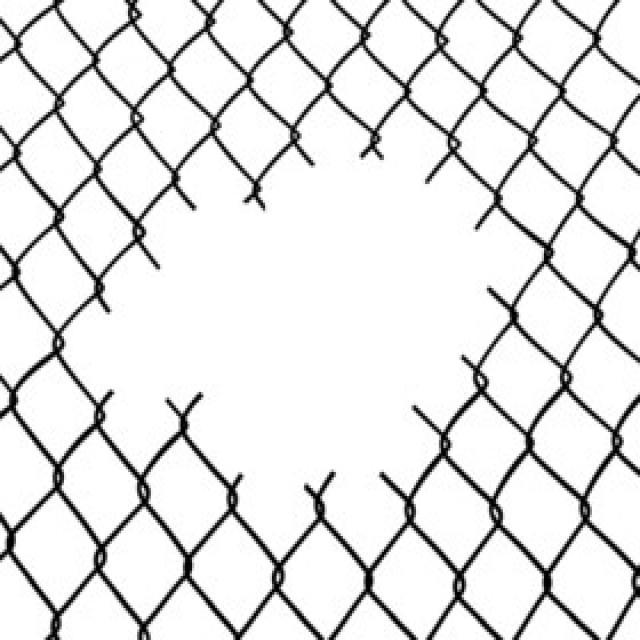fence line: (93, 119, 516, 513)
